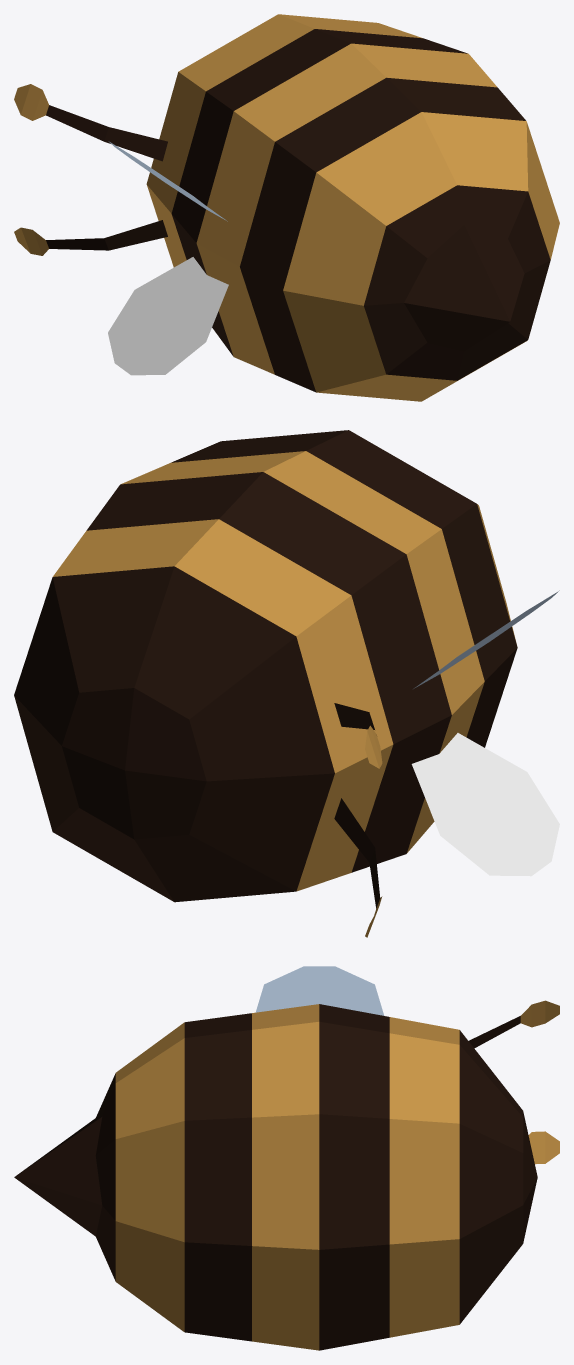
The model's file is CreativeCoding_Beeanca.fbx.
3 views of the same model, one above another, from view 1: azimuth 30°, elevation 25°; view 2: azimuth 150°, elevation 25°; view 3: azimuth 270°, elevation 25° (orthographic). The views are drawn at different scales.
Visible parts, largest first — view 1: Beeanca, WingLeft, WingRight; view 2: Beeanca, WingLeft, WingRight; view 3: Beeanca, WingRight.
Boxes of the visible parts, x1,y1,x2,y2 form: Beeanca: (14,14,559,401); WingLeft: (108,257,228,375); WingRight: (108,141,227,221); Beeanca: (14,430,517,937); WingLeft: (411,733,559,876); WingRight: (413,590,559,688); Beeanca: (14,1000,559,1350); WingRight: (255,966,384,1015).
Size of the model in its own units: 513 by 415 by 659.
